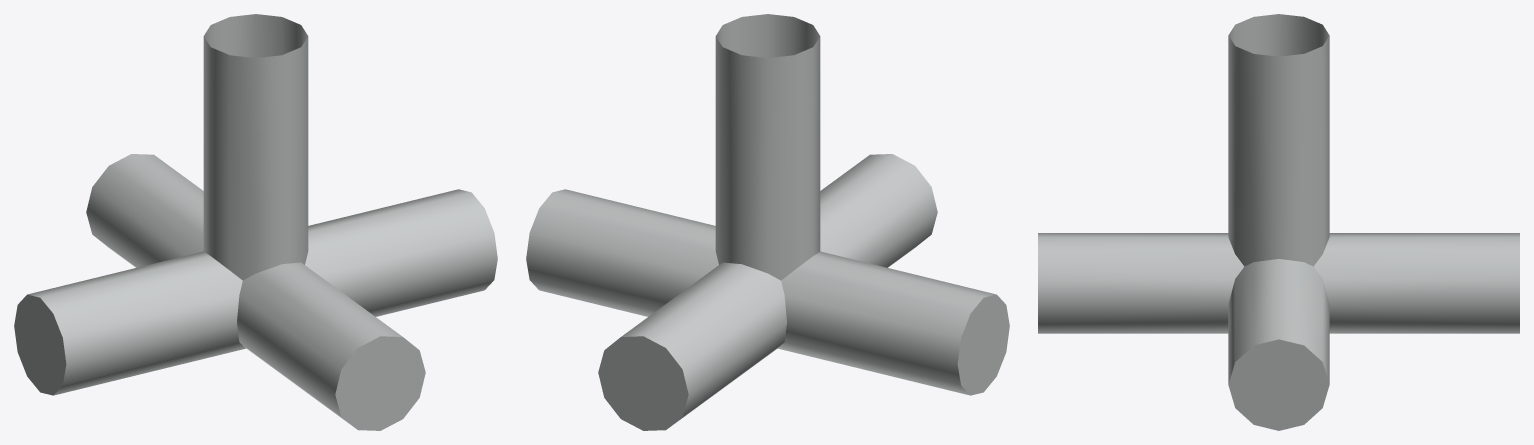
The model's file is SinkFaucetKnobR_13_SinkFaucetKnobR_13_2.obj.
3 views of the same model, side by side, from view 1: azimuth 30°, elevation 25°; view 2: azimuth 150°, elevation 25°; view 3: azimuth 270°, elevation 25° (orthographic). The views are drawn at different scales.
Parts seen in each view (by area): view 1: SinkFaucetKnobR_13; view 2: SinkFaucetKnobR_13; view 3: SinkFaucetKnobR_13.
Part boxes in pixels (box(x1,y1,x2,y2)): SinkFaucetKnobR_13: box(14, 14, 497, 430); SinkFaucetKnobR_13: box(526, 14, 1009, 430); SinkFaucetKnobR_13: box(1038, 14, 1519, 430).
Size of the model in its own units: 0.0971 by 0.0653 by 0.0971.
